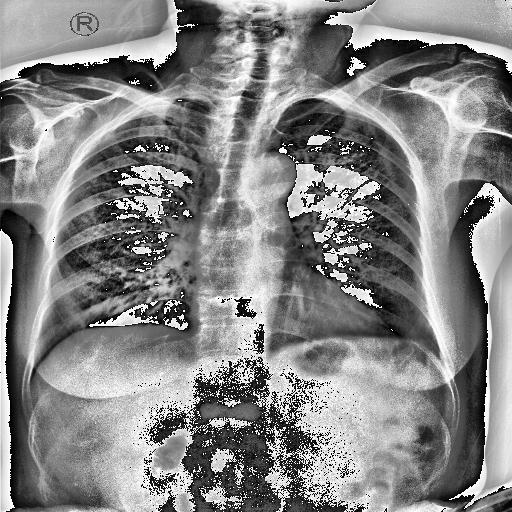0- Aortic enlargement: (240, 151, 298, 202), (246, 152, 294, 212), (244, 152, 300, 202)
11- Pleural thickening: (320, 95, 368, 115), (178, 93, 214, 106), (176, 91, 212, 103), (293, 98, 337, 105)
3- Cardiomegaly: (190, 294, 402, 356)
